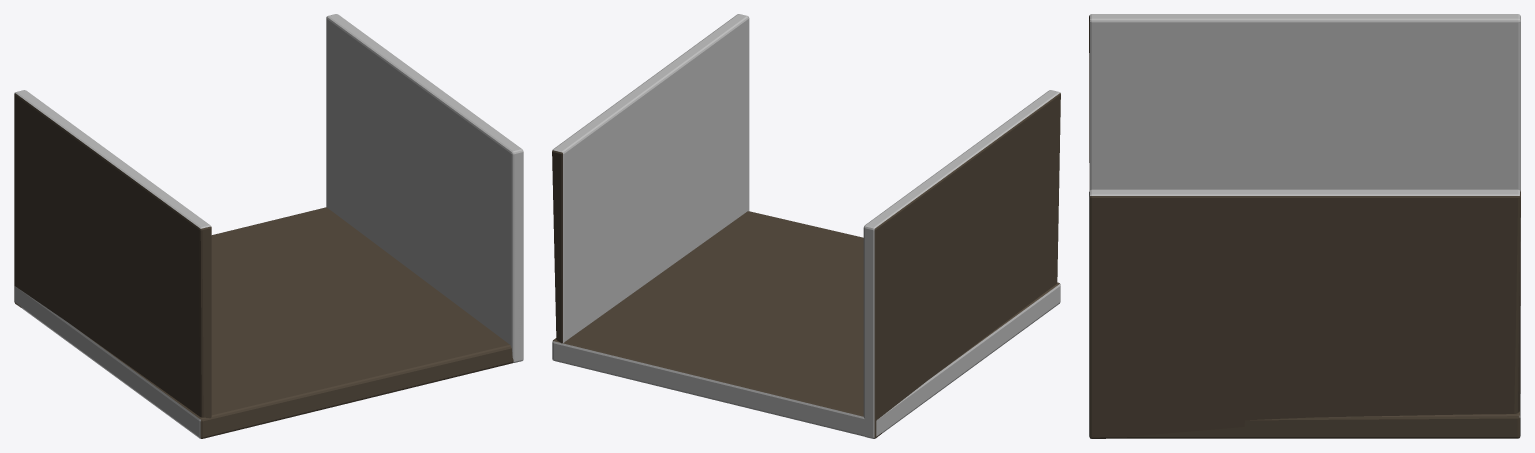
The model's file is corridor_floor_1x1_damaged.glb.
The picture shows the model from 3 angles, left to right: view 1: azimuth 30°, elevation 25°; view 2: azimuth 150°, elevation 25°; view 3: azimuth 270°, elevation 25°; orthographic projection. The views are drawn at different scales.
Visible parts, largest first — view 1: Visual_corridor_floor_1x1_Floor, Visual_corridor_floor_1x1_EastWall, Visual_corridor_floor_1x1_WestWall; view 2: Visual_corridor_floor_1x1_Floor, Visual_corridor_floor_1x1_EastWall, Visual_corridor_floor_1x1_WestWall; view 3: Visual_corridor_floor_1x1_EastWall, Visual_corridor_floor_1x1_WestWall, Visual_corridor_floor_1x1_Floor.
Part boxes in pixels (bbox=[...]): Visual_corridor_floor_1x1_Floor: bbox=[14, 207, 513, 438]; Visual_corridor_floor_1x1_EastWall: bbox=[326, 14, 523, 362]; Visual_corridor_floor_1x1_WestWall: bbox=[14, 90, 211, 418]; Visual_corridor_floor_1x1_Floor: bbox=[552, 211, 1060, 436]; Visual_corridor_floor_1x1_EastWall: bbox=[552, 14, 749, 343]; Visual_corridor_floor_1x1_WestWall: bbox=[863, 90, 1060, 438]; Visual_corridor_floor_1x1_EastWall: bbox=[1089, 189, 1520, 438]; Visual_corridor_floor_1x1_WestWall: bbox=[1089, 14, 1520, 241]; Visual_corridor_floor_1x1_Floor: bbox=[1115, 242, 1520, 438].
Bounding box in the file's own units: 4 × 2.5 × 4.
